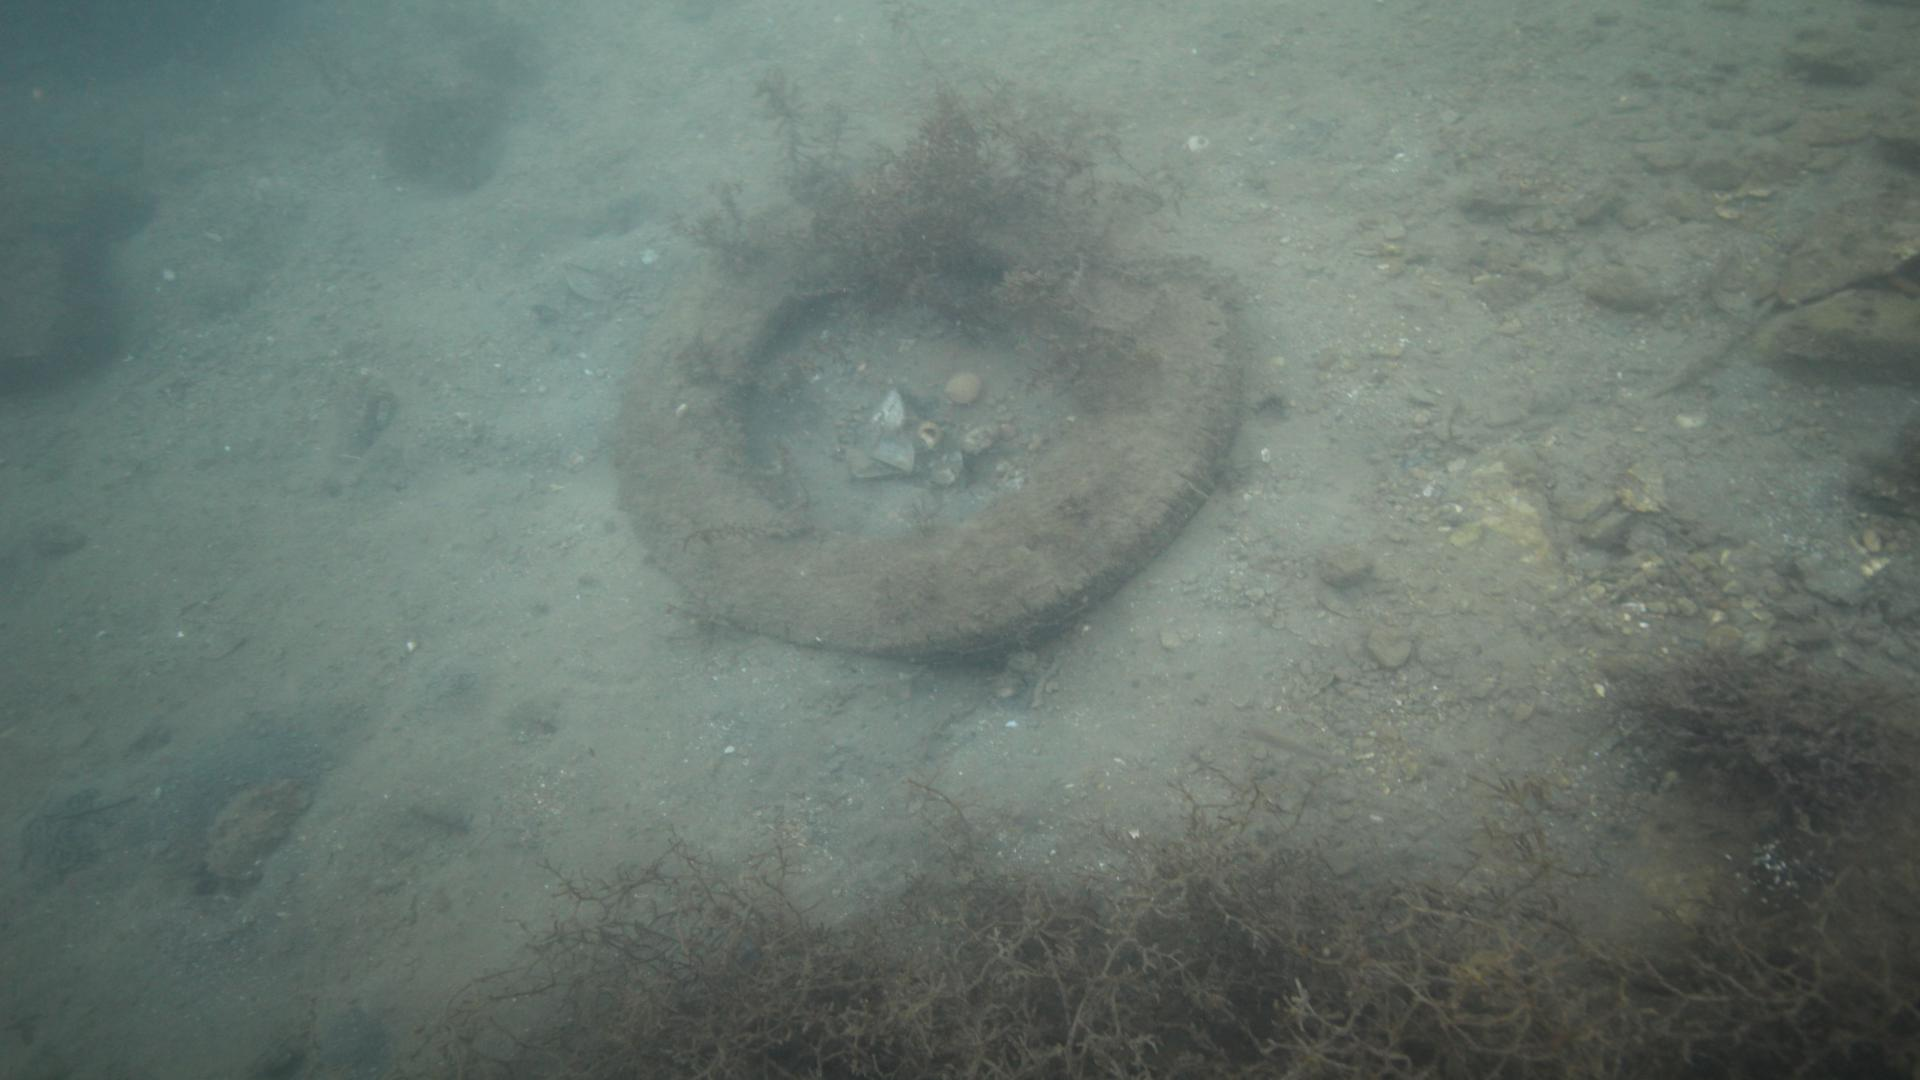tire: (616, 175, 1247, 665)
